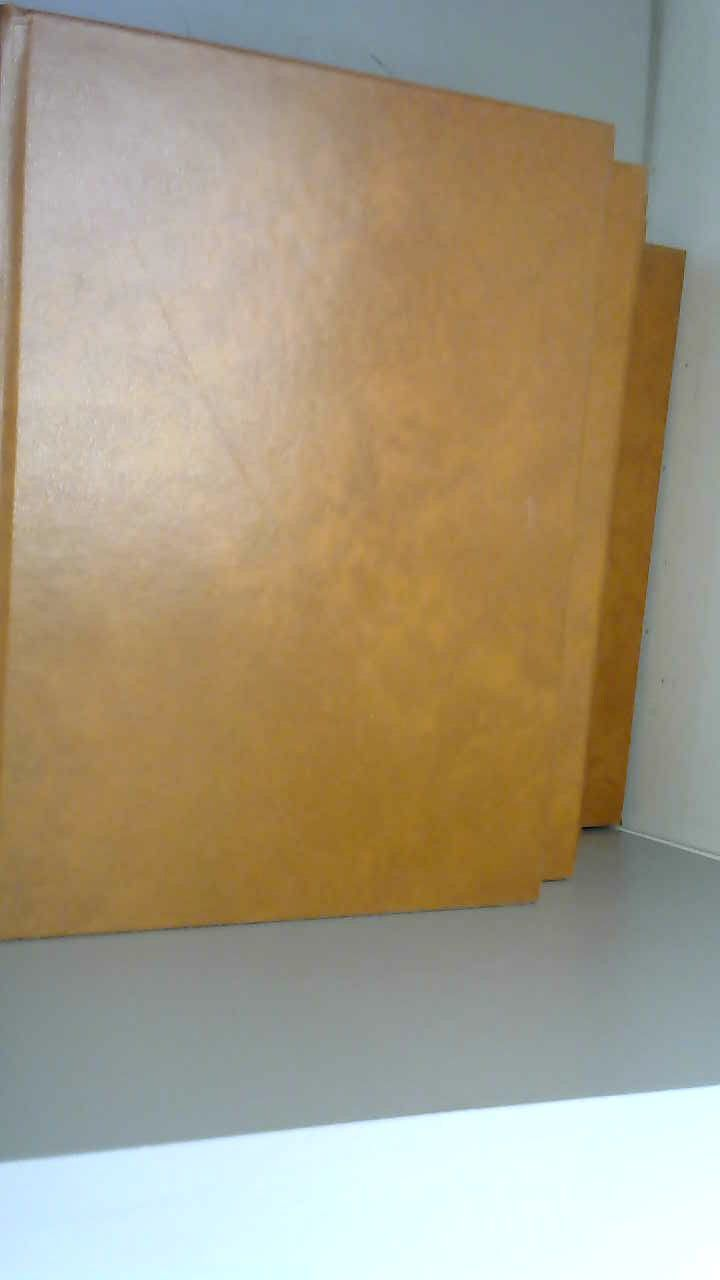book: (0, 0, 717, 946)
